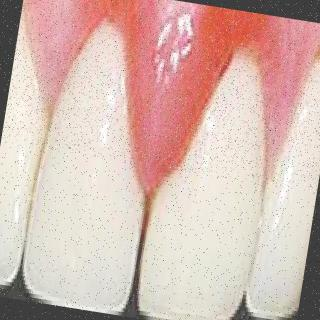Gum Swelling: (102, 0, 260, 195)
